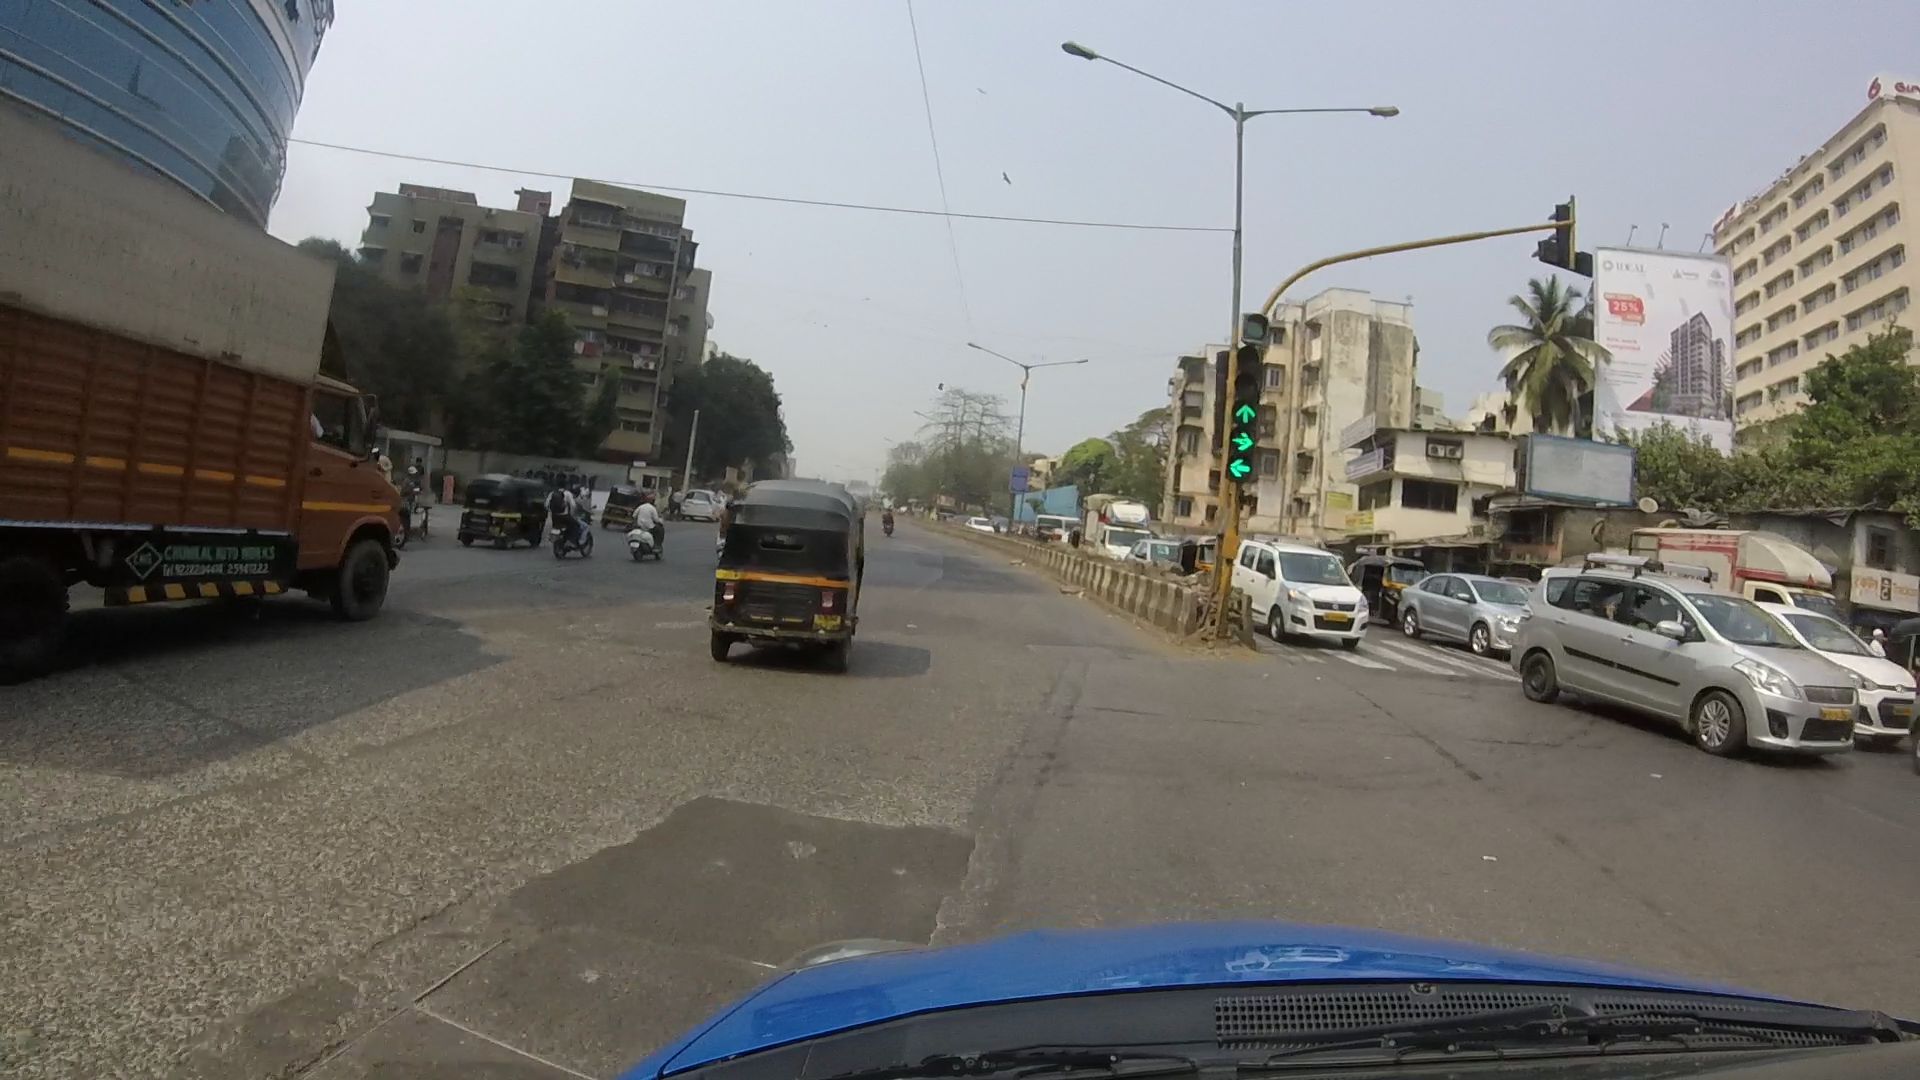bike/scooter: (613, 487, 658, 556)
car: (1531, 560, 1855, 771), (1211, 516, 1371, 651), (1402, 563, 1555, 680)
rickshaw: (719, 480, 876, 676), (462, 460, 546, 551)
truck: (18, 136, 405, 654)
